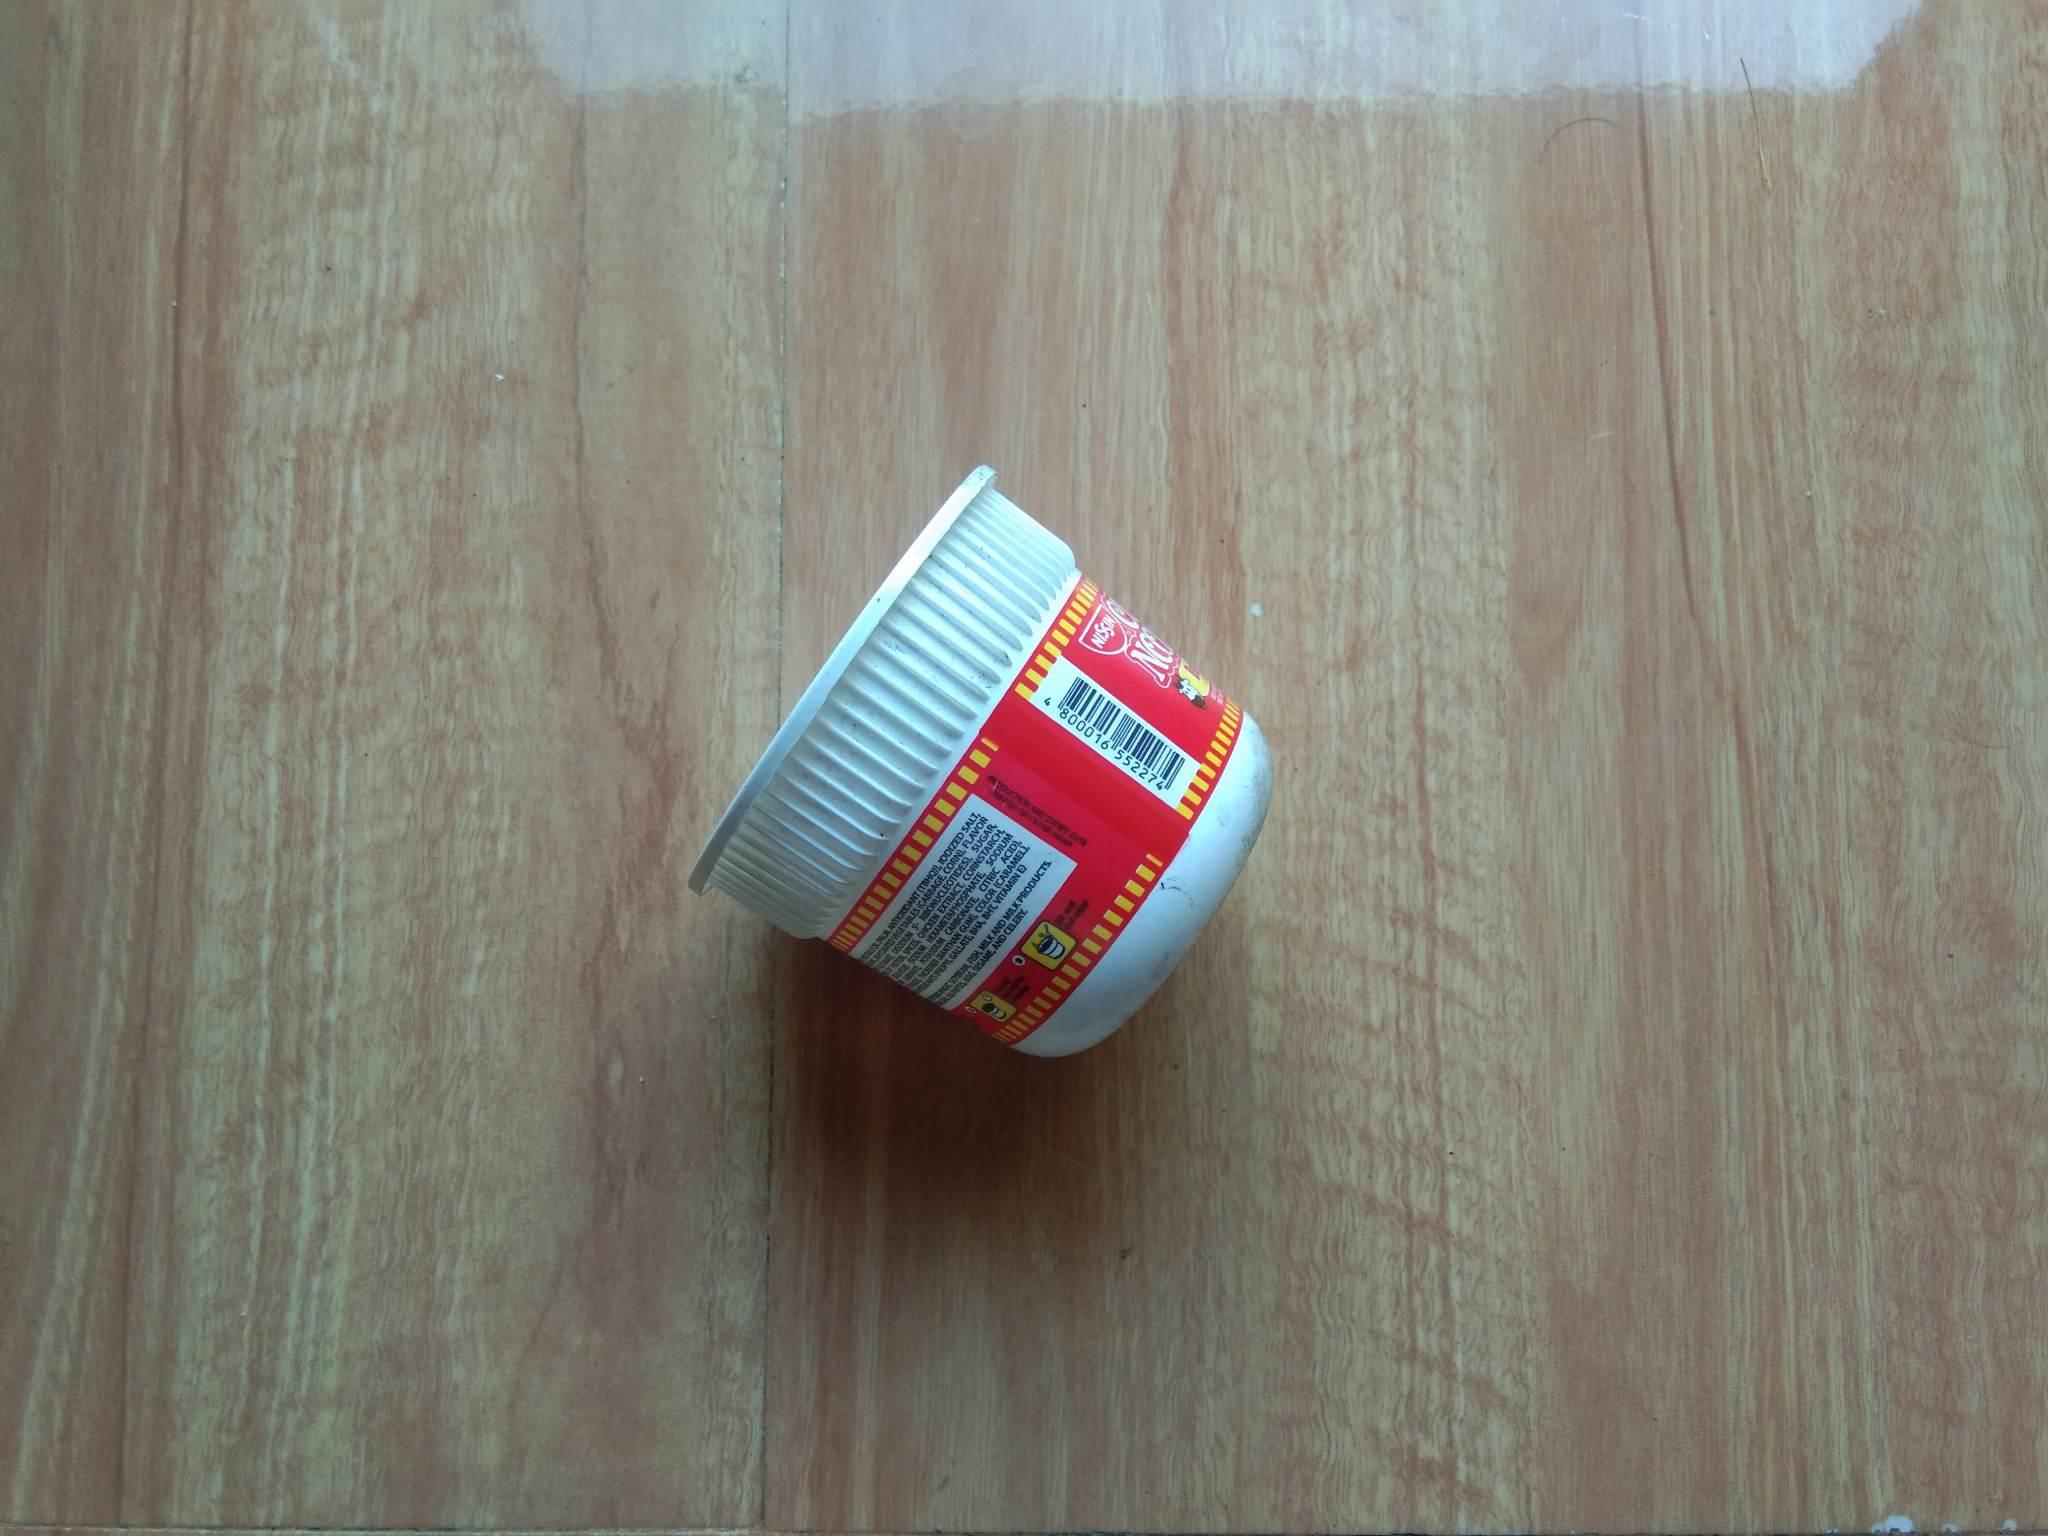plastic: (576, 347, 1305, 1133)
